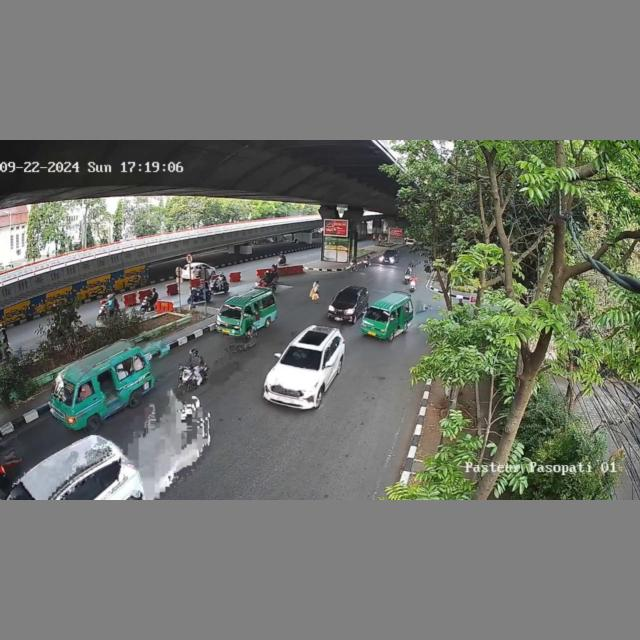windshield: (278, 344, 325, 370), (218, 303, 243, 319), (364, 307, 391, 321), (335, 292, 359, 305)
